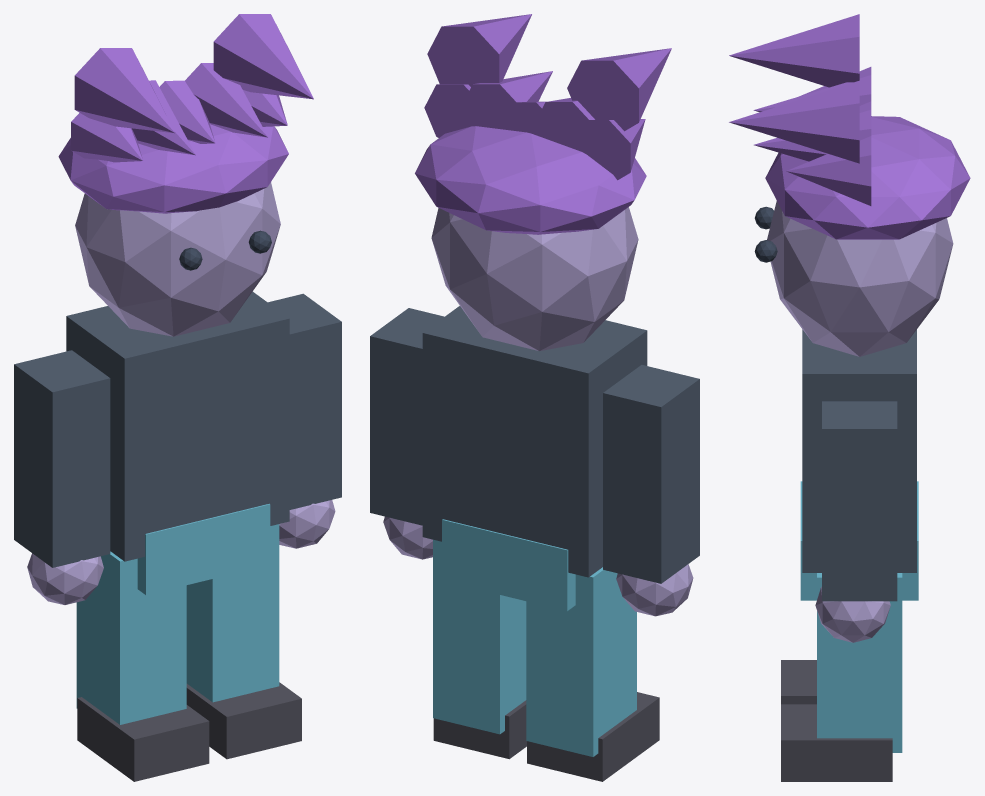
Rendered from beerus.glb.
The picture shows the model from 3 angles, left to right: view 1: azimuth 30°, elevation 25°; view 2: azimuth 150°, elevation 25°; view 3: azimuth 270°, elevation 25°; orthographic projection. The views are drawn at different scales.
Visible parts, largest first — view 1: part_000, part_010, part_002, part_004, part_013, part_008, part_006, part_001, part_005, part_009, part_019, part_020 (+7 smaller); view 2: part_000, part_010, part_002, part_013, part_004, part_008, part_006, part_001, part_019, part_020, part_005, part_017 (+7 smaller); view 3: part_010, part_006, part_013, part_000, part_008, part_009, part_020, part_019, part_018, part_007, part_005, part_001 (+2 smaller).
Boxes of the visible parts, x1,y1,x2,y2 form: part_000: (66,291,289,561); part_010: (75,182,280,336); part_002: (14,350,110,567); part_004: (76,551,186,724); part_013: (58,124,288,213); part_008: (186,524,279,702); part_006: (268,293,341,509); part_001: (137,503,270,594); part_005: (77,697,209,781); part_009: (186,682,301,759); part_019: (74,48,174,133); part_020: (213,14,313,99); part_000: (422,306,647,577); part_010: (431,207,638,350); part_002: (603,365,699,583); part_013: (415,126,646,234); part_004: (526,567,636,756); part_008: (433,539,526,734); part_006: (370,308,444,525); part_001: (442,519,575,611); part_019: (567,48,671,131); part_020: (427,14,531,86); part_005: (527,692,659,781); part_017: (461,71,552,131); part_010: (767,201,953,356); part_006: (822,401,897,601); part_013: (765,116,970,239); part_000: (802,329,916,572); part_008: (817,573,902,752); part_009: (781,704,892,781); part_020: (729,80,859,163); part_019: (729,14,859,87); part_018: (786,136,871,205); part_007: (815,587,890,642); part_005: (781,660,816,704); part_001: (800,481,918,600).
Size of the model in its own units: 1.03 by 2.32 by 0.7378.
